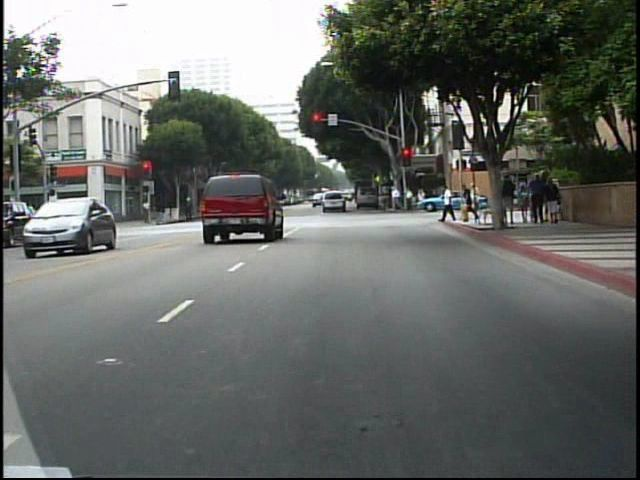person: (501, 172, 519, 228), (440, 183, 456, 225), (468, 178, 482, 223), (463, 181, 477, 224), (183, 193, 195, 226), (141, 197, 150, 225)
